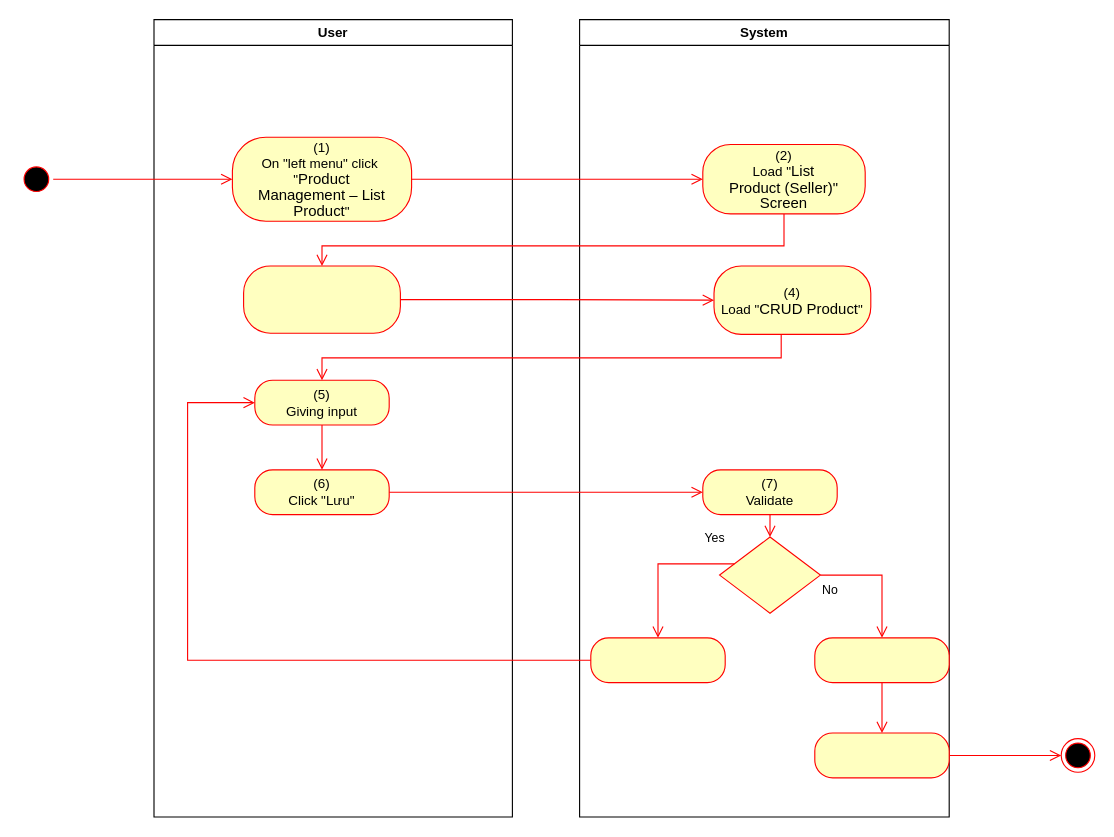
Image size: 1114x837. Some labels were removed from this diagram. The centre of each missing label's shape, as x and y in pixels:
(3) Click button "Chỉnh sửa" trên 1 item hàng hóa bất kỳ: [321,299]
(7.1) Show MSG: [657,660]
(7.2) Update product to DB: [881,660]
(8) Update UI: [881,755]
